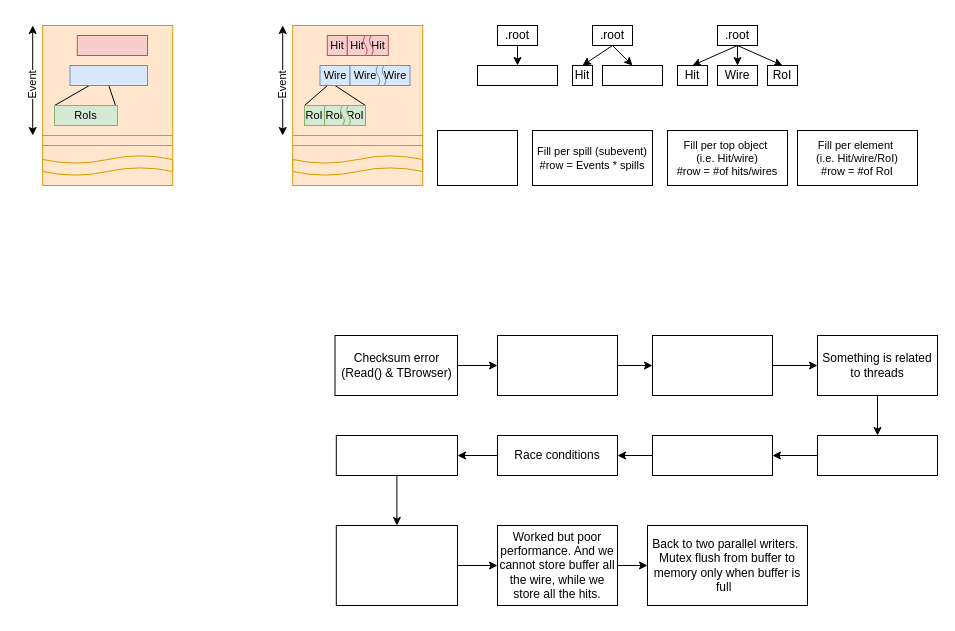
Image size: 955x631. Some labels were removed from this diagram. The shapes that lost their labels are listed below. From the top down, each one's centre as x and y in pixels, then its label:
point (112, 45): Hits
point (108, 75): Wires
point (517, 75): Hit, Wire, RoI
point (632, 75): Wire, RoI
point (477, 158): Fill per event #row = Events
point (557, 365): Read() contains a set of reading benchmark()
point (712, 365): Read() fails in different benchmark() at different times
point (396, 455): Two parallel writers. 1. for hit, 2. for wire
point (712, 455): Worked, but !
point (877, 455): nThreads = 1
point (396, 565): I serialized. First Hit, then Wire
